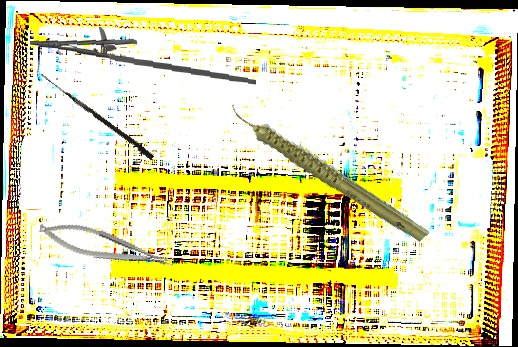Handpiece: (226, 64, 432, 277)
Hook Surgical: (37, 73, 156, 161)
Needle Holder: (28, 23, 259, 85), (35, 212, 177, 282)
